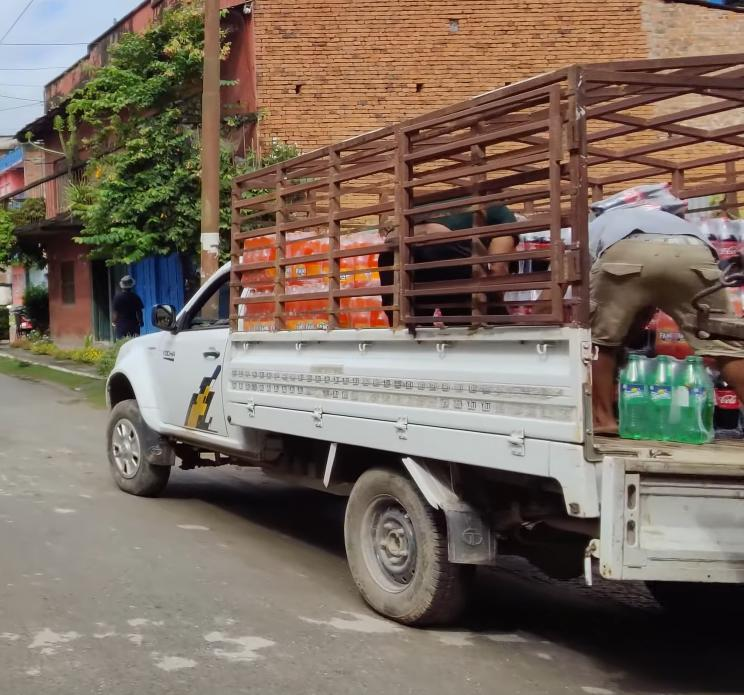transport_vehicle: (104, 99, 744, 630)
